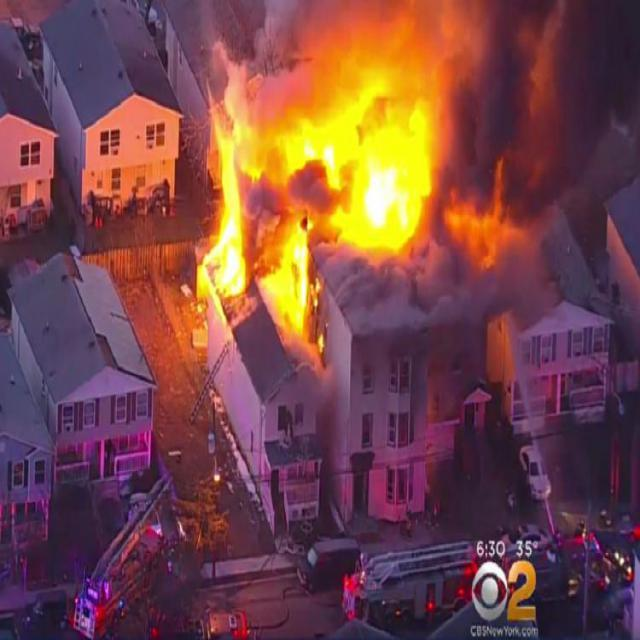Fire: (179, 80, 457, 344)
